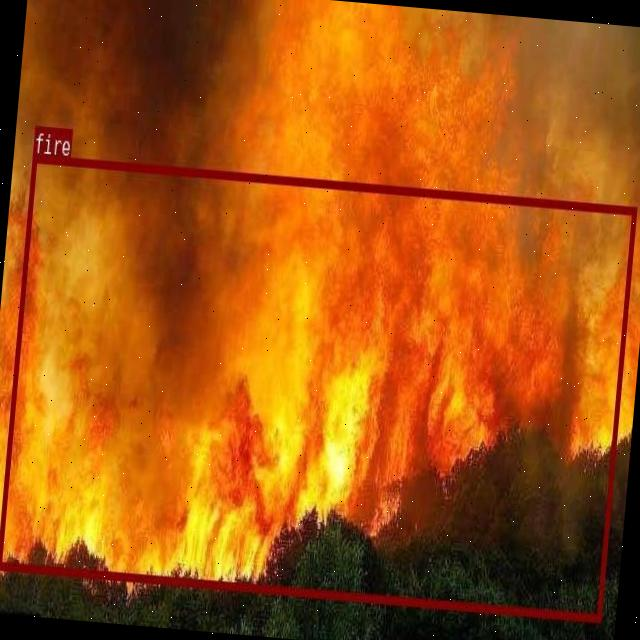fire: (0, 152, 636, 619)
